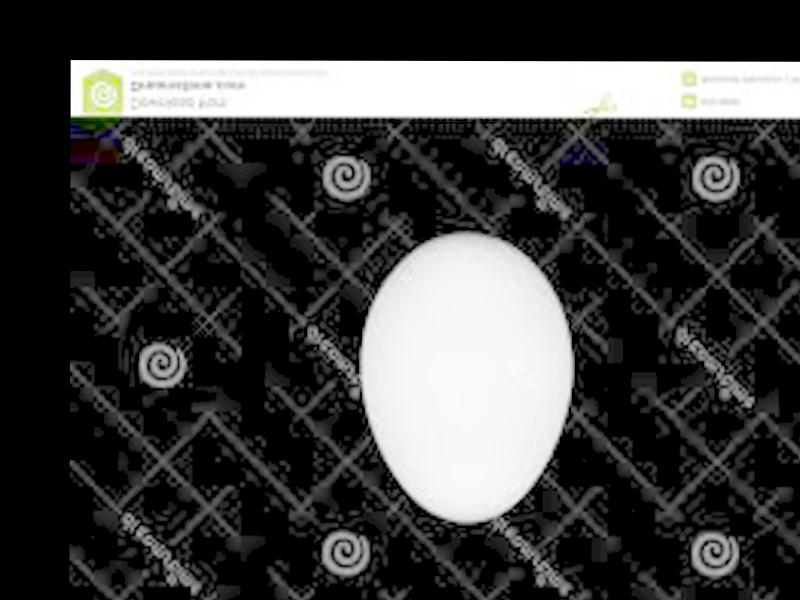Eggs: (363, 234, 577, 520)
